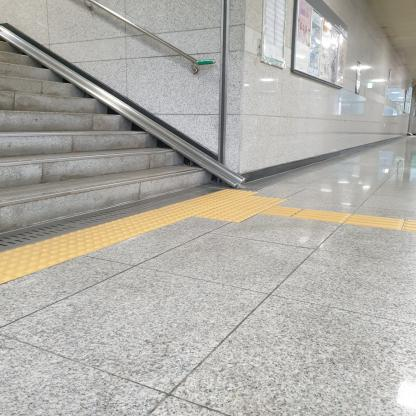go: (343, 214, 405, 230), (290, 209, 352, 224), (260, 206, 303, 217)
stop: (132, 208, 194, 227), (195, 207, 260, 223), (160, 201, 219, 216), (220, 201, 275, 213), (185, 195, 236, 207), (236, 195, 288, 206), (206, 191, 250, 200)
